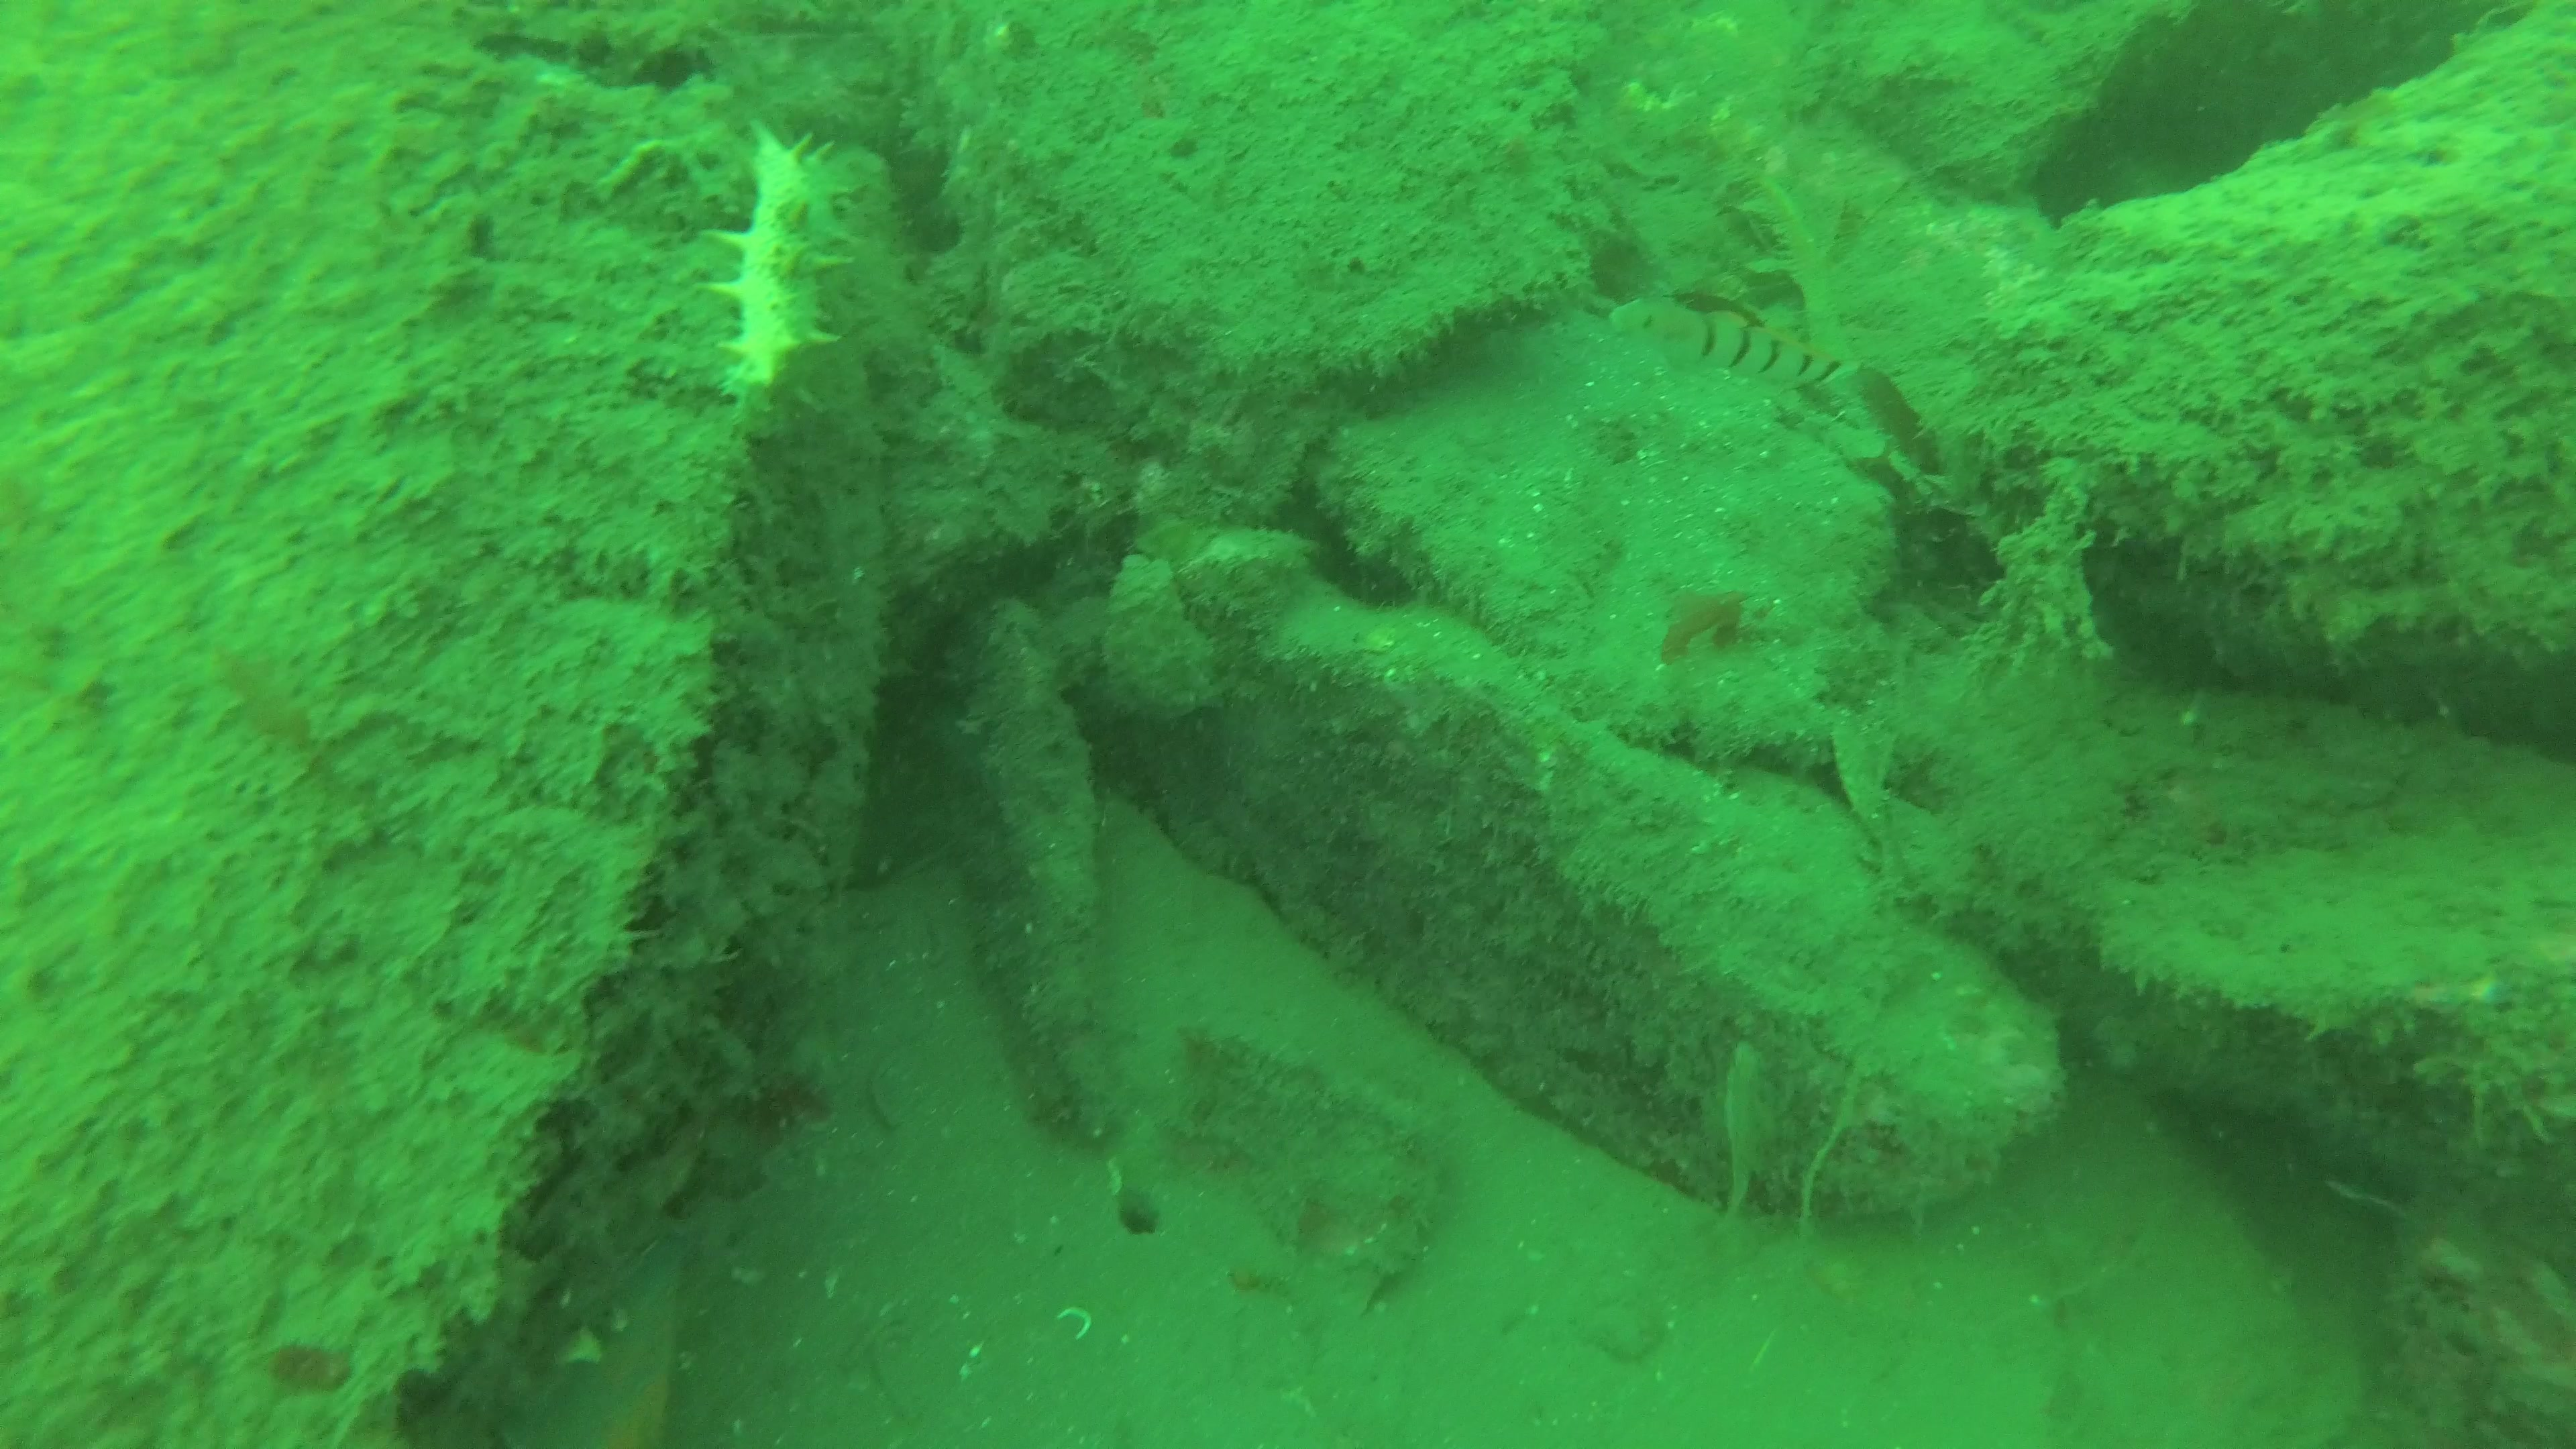holothurian: (695, 115, 867, 428)
